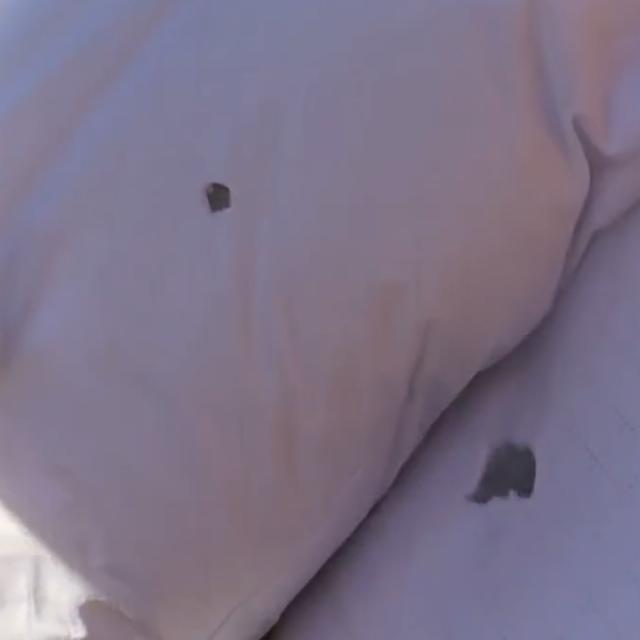bullets: (457, 434, 546, 512), (200, 178, 240, 216)
